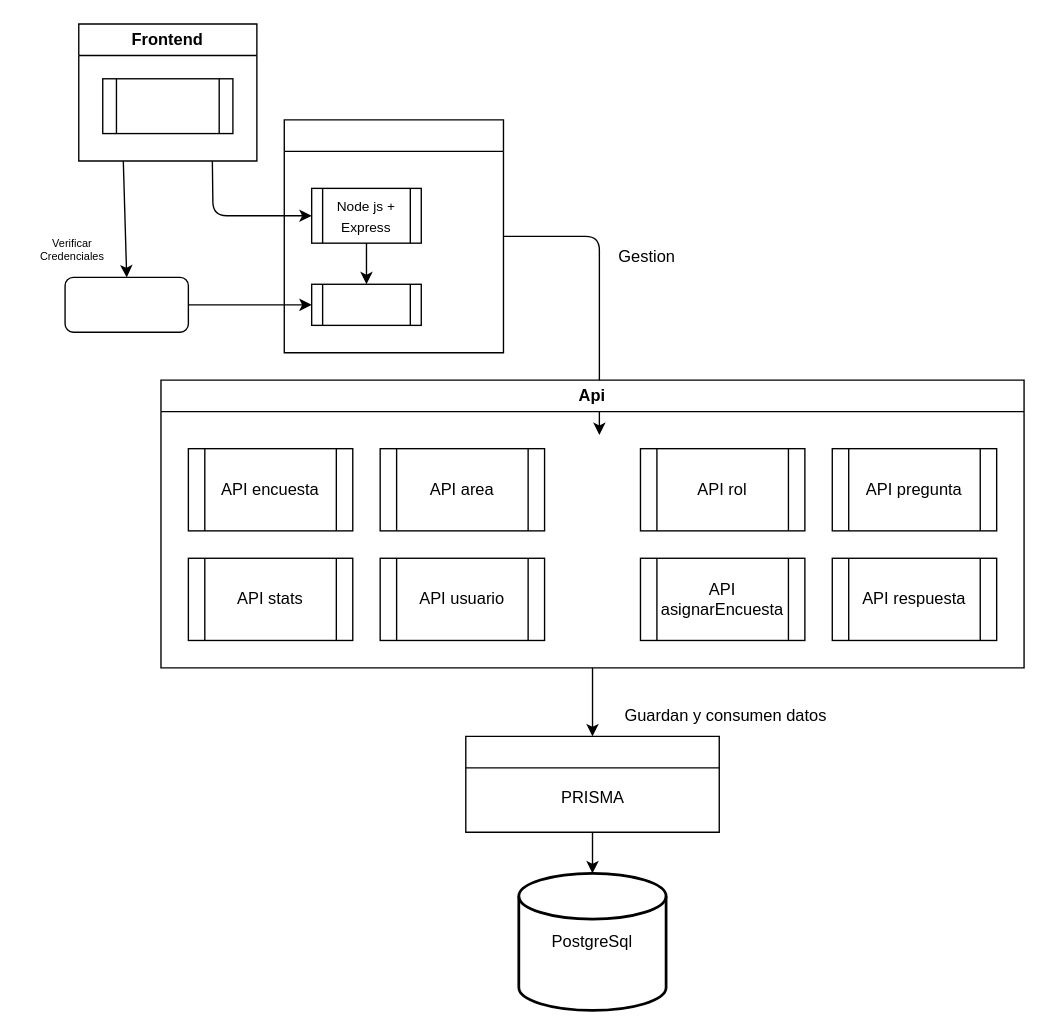
Image size: 1048x1036. Some labels were removed from this diagram. The box of each missing label's shape, as (x1, y1, x2, y2) in pixels:
Autenticacion: (310, 283, 421, 325)
Backend: (283, 119, 503, 353)
JSON WEB TOKEN: (64, 276, 188, 332)
ORM: (464, 735, 719, 832)
Vite + React js: (101, 77, 233, 134)
